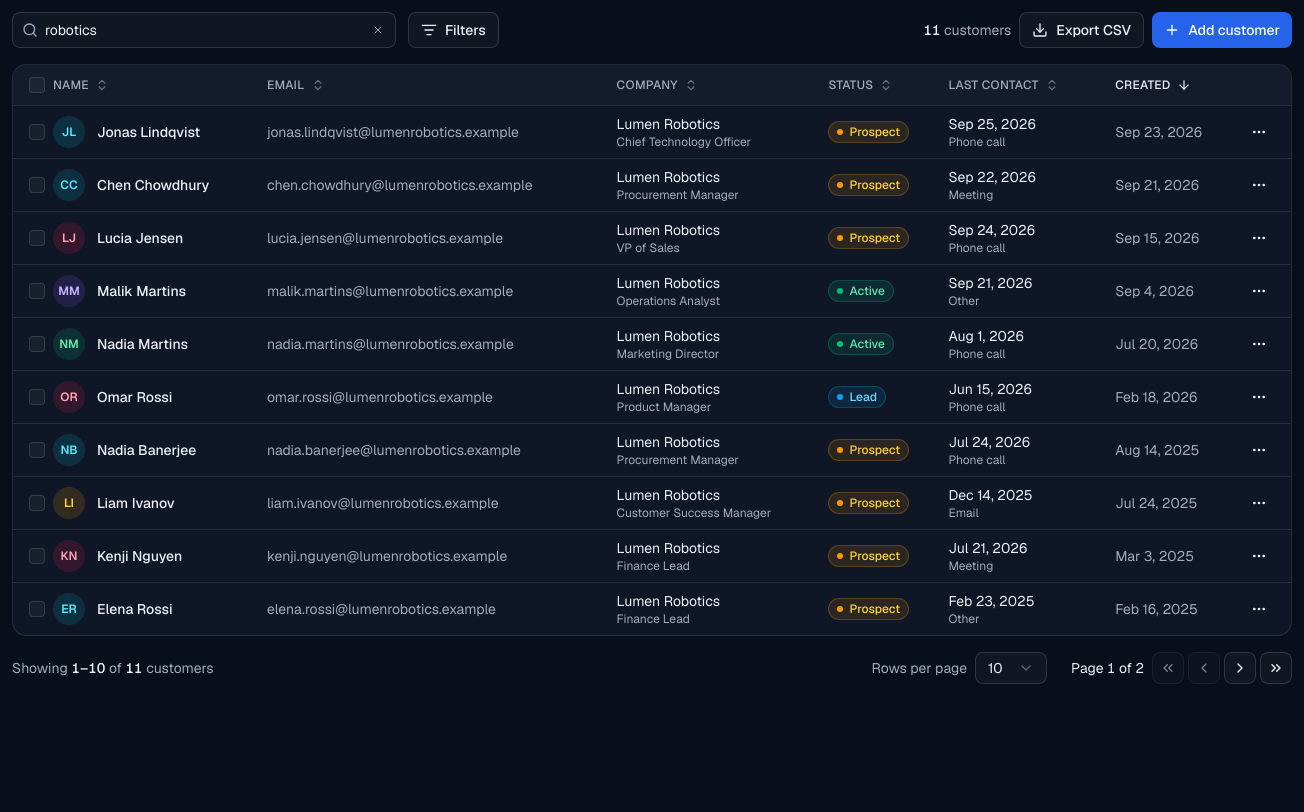
CustomersView › restores search from the URL and clears it
Expected: the search field holds "robotics", [12,12,396,48]
Click the 1st button named "Clear search". click: (378, 30)
box: [366,18,390,42]
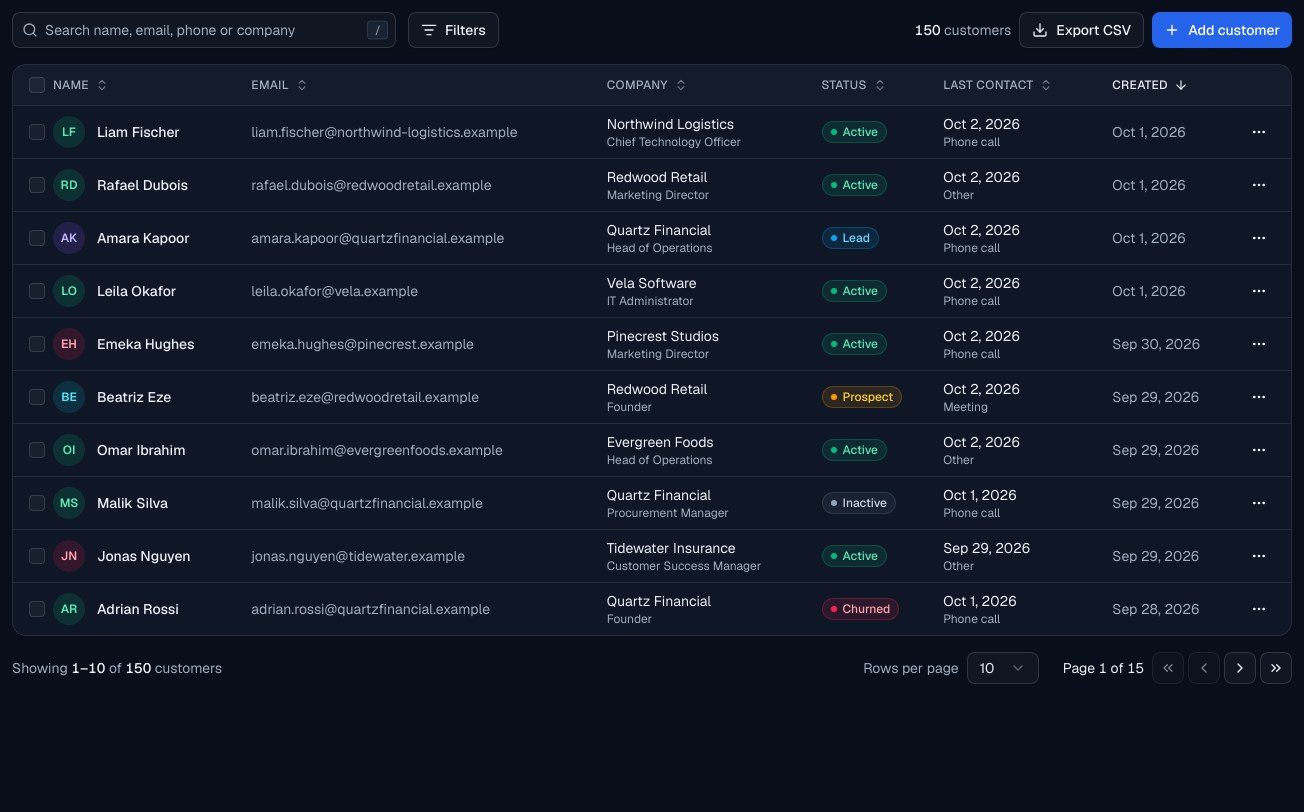
Now the search field is empty, box [12,12,396,48]
